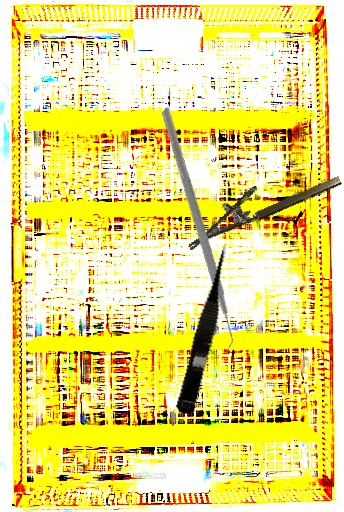Chopper: (64, 106, 323, 361)
Micro Scissor: (174, 238, 241, 419)
Needle Holder: (177, 154, 343, 251)
